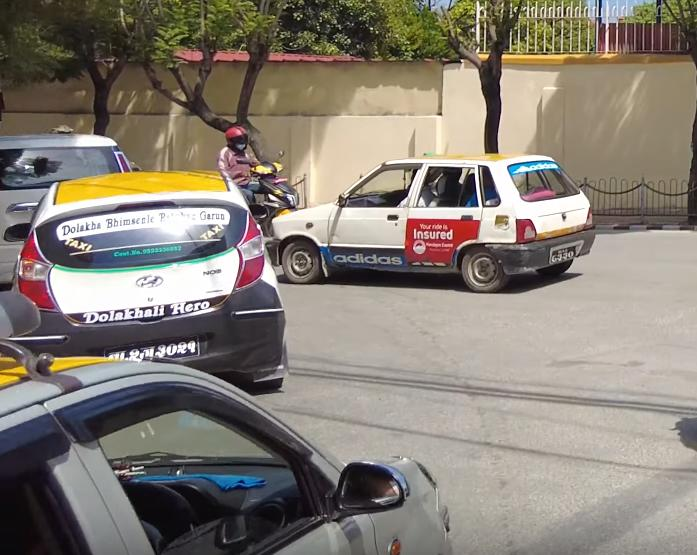scooter: (223, 153, 306, 238)
taxi: (5, 171, 320, 393), (276, 150, 616, 302)
